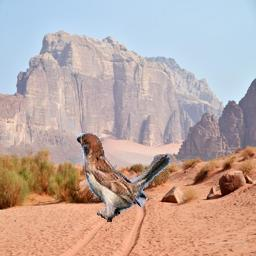Sparrow: (78, 132, 171, 222)
